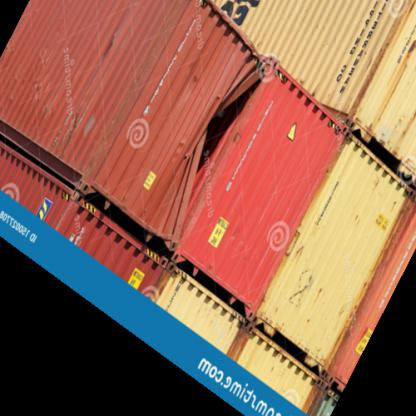Damage: (187, 58, 264, 186)
